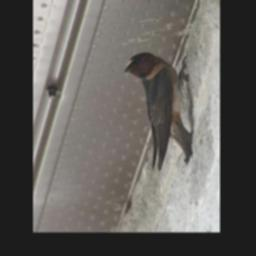Swallow: (124, 52, 196, 171)
